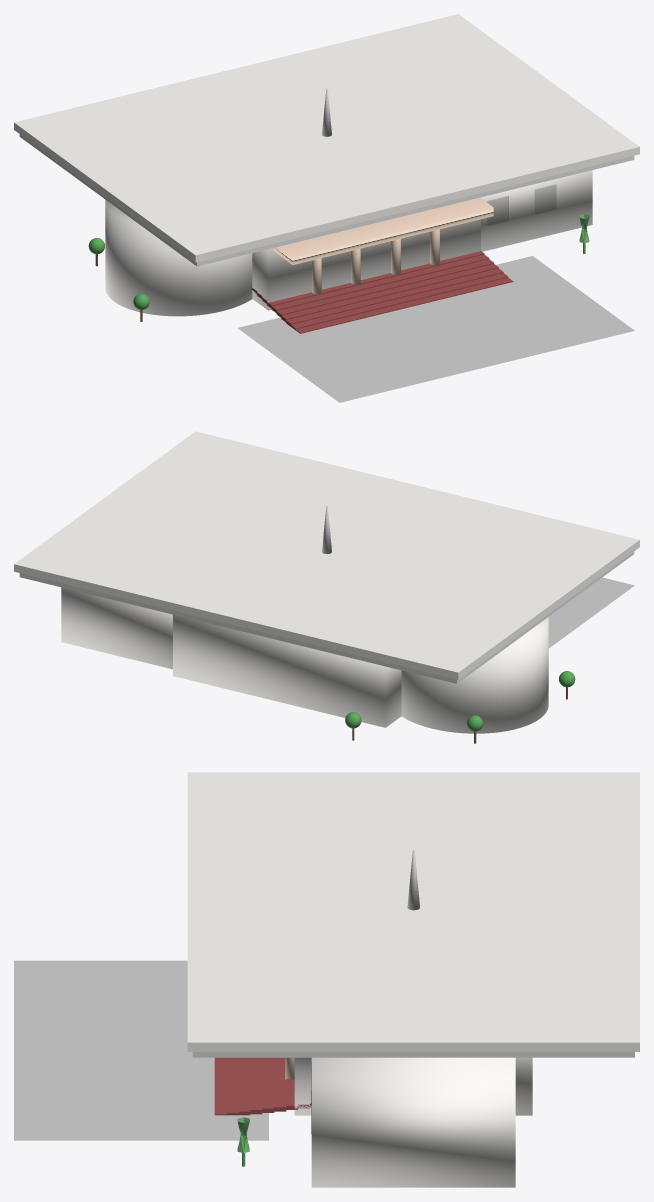
The model's file is Guest House.glb.
3 renders of one model, top to bottom at view 1: azimuth 30°, elevation 25°; view 2: azimuth 150°, elevation 25°; view 3: azimuth 270°, elevation 25°, orthographic. The views are drawn at different scales.
Parts seen in each view (by area): view 1: Parapet, Pavement, Left_Wing, Center_Block, Right_Wing, Canopy, Roof, Stair_3, Stair_1, Stair_4, Stair_2, Stair_5 (+2 smaller); view 2: Parapet, Center_Block, Left_Wing, Right_Wing, Roof, Pavement; view 3: Parapet, Pavement, Right_Wing, Roof, Center_Block, Stair_0, Stair_1, Stair_2, Stair_3, Stair_4, Stair_5.
Part boxes in pixels (box(x1,y1,x2,y2)): Parapet: box(14, 14, 639, 262); Pavement: box(237, 256, 634, 402); Left_Wing: box(105, 200, 252, 316); Center_Block: box(252, 197, 480, 310); Right_Wing: box(481, 170, 592, 251); Canopy: box(274, 197, 493, 264); Roof: box(19, 134, 634, 266); Stair_3: box(276, 264, 498, 320); Stair_1: box(286, 273, 508, 329); Stair_4: box(271, 259, 493, 315); Stair_2: box(281, 268, 503, 325); Stair_5: box(267, 254, 489, 310); Parapet: box(14, 431, 639, 679); Center_Block: box(173, 614, 401, 727); Left_Wing: box(401, 617, 548, 733); Right_Wing: box(61, 587, 172, 669); Roof: box(19, 551, 634, 683); Pavement: box(548, 577, 634, 648); Parapet: box(187, 772, 639, 1051); Pavement: box(14, 960, 268, 1140); Right_Wing: box(311, 1057, 515, 1187); Roof: box(192, 1052, 634, 1057); Center_Block: box(294, 1057, 532, 1115); Stair_0: box(214, 1057, 238, 1115); Stair_1: box(226, 1057, 250, 1115); Stair_2: box(238, 1057, 262, 1114); Stair_3: box(250, 1057, 274, 1112); Stair_4: box(262, 1057, 286, 1111); Stair_5: box(274, 1057, 297, 1109).
Size of the model in its own units: 37.8 by 13.09 by 36.8.
